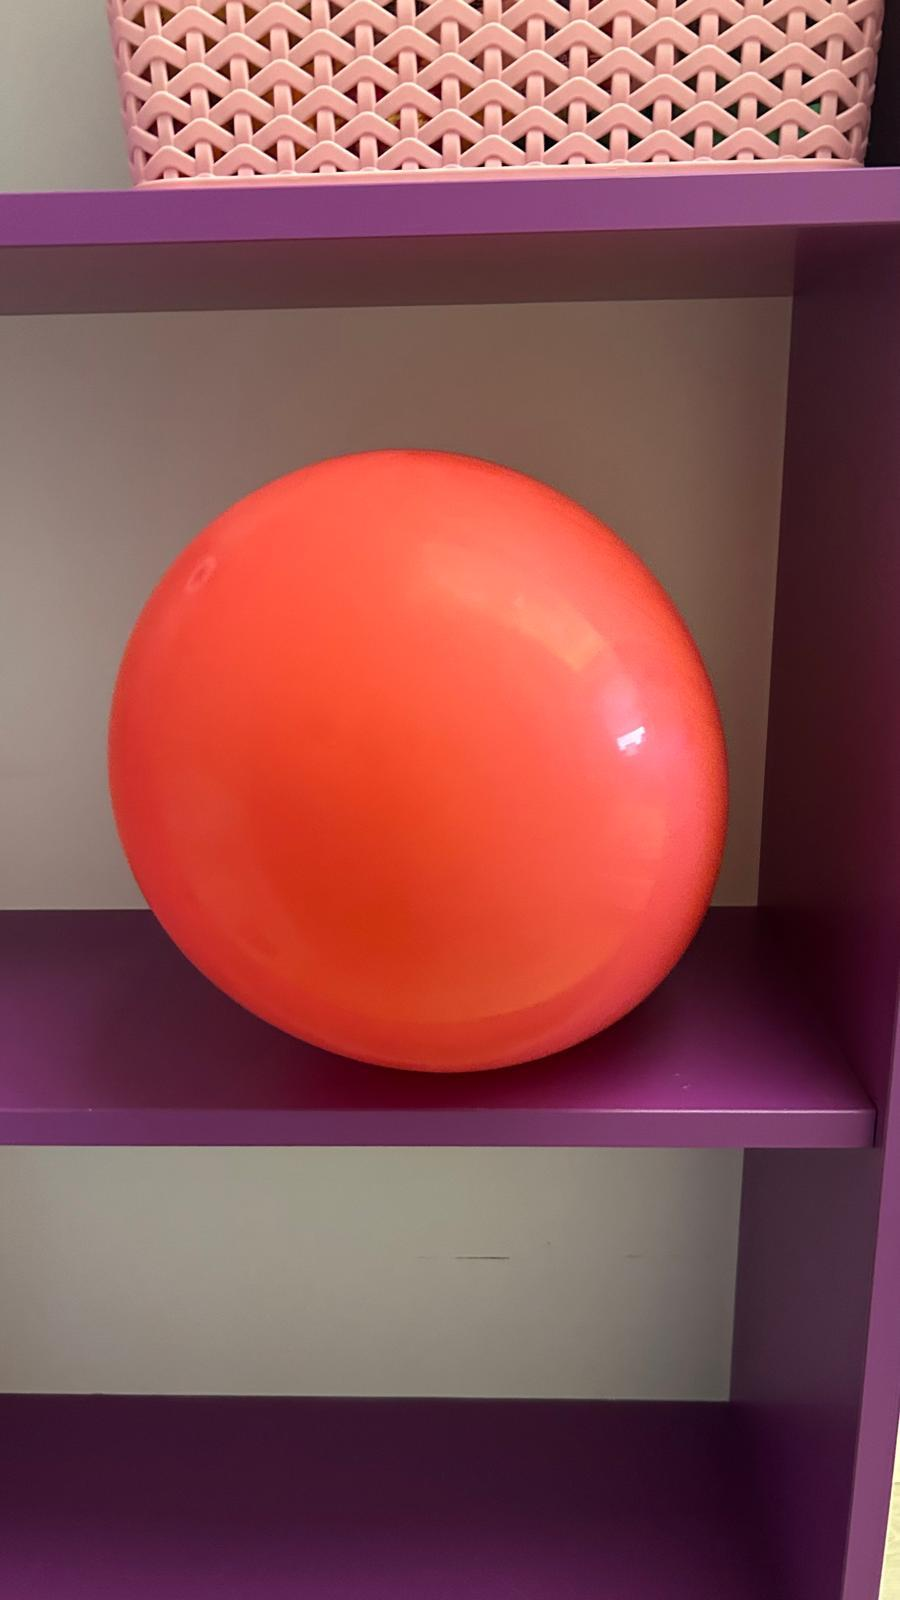red: (104, 441, 737, 1076)
